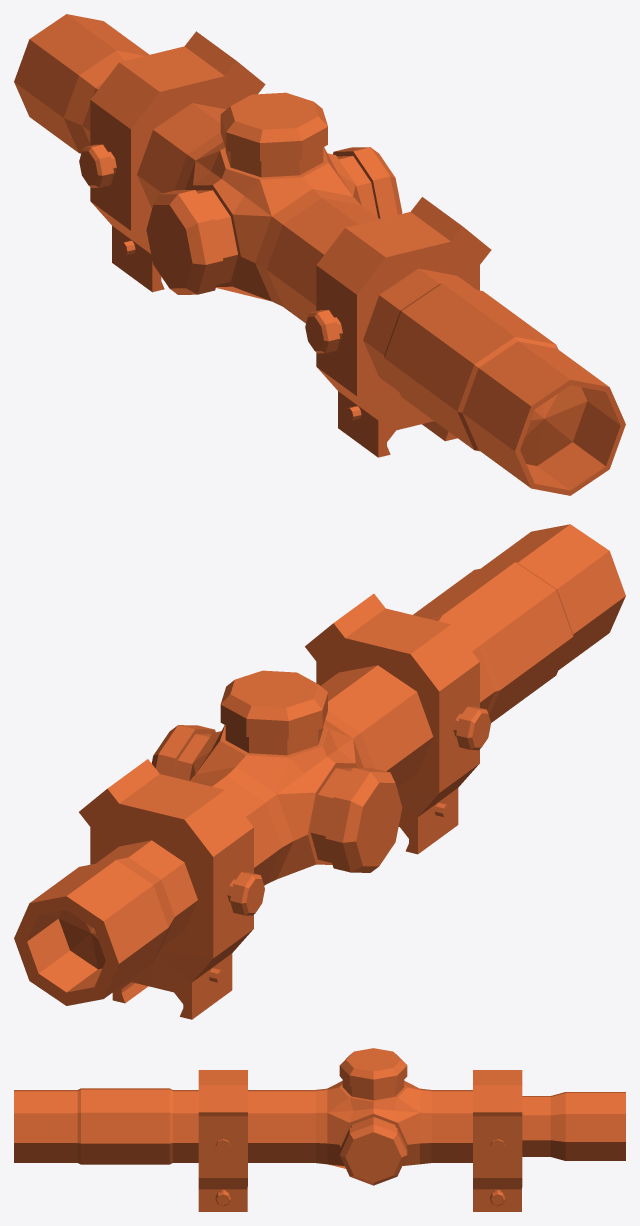
Rendered from acc_scope_8X.fbx.
3 views of the same model, one above another, from view 1: azimuth 30°, elevation 25°; view 2: azimuth 150°, elevation 25°; view 3: azimuth 270°, elevation 25° (orthographic). The views are drawn at different scales.
Visible parts, largest first — view 1: acc_scope_8X; view 2: acc_scope_8X; view 3: acc_scope_8X.
Part boxes in pixels (left/top/right/bottom): acc_scope_8X: left=14, top=14, right=625, bottom=495; acc_scope_8X: left=14, top=524, right=625, bottom=1019; acc_scope_8X: left=14, top=1048, right=625, bottom=1211.
Size of the model in its own units: 32.44 by 34.18 by 135.
